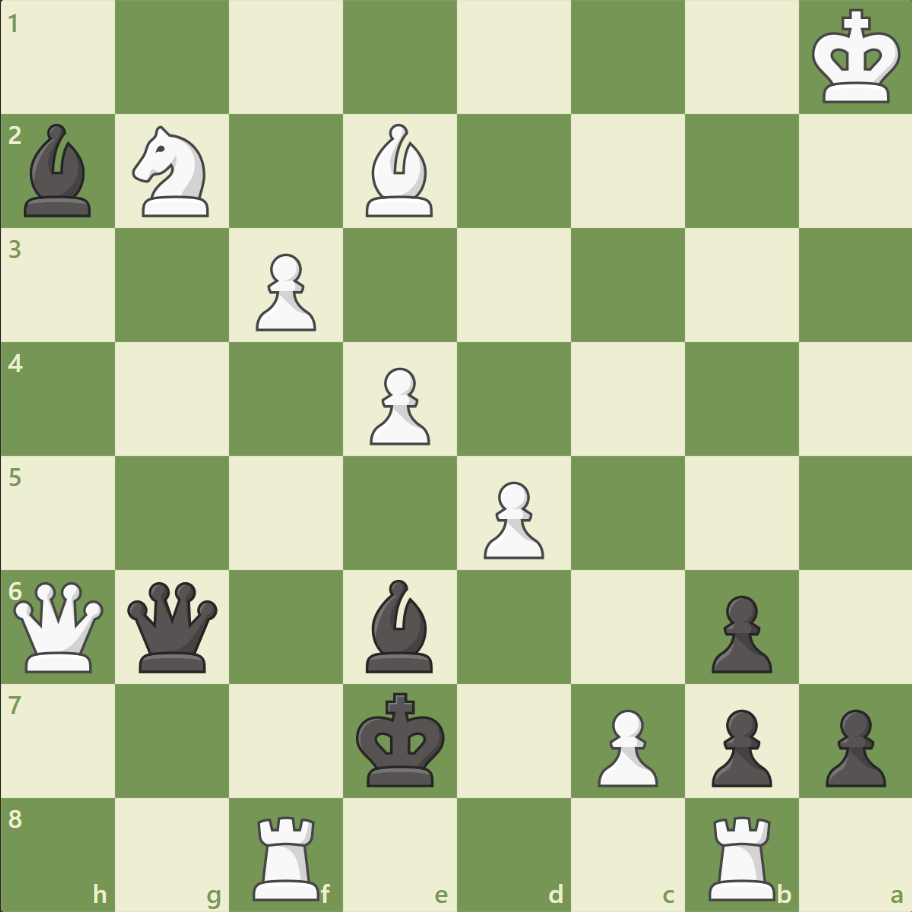B: (358, 120, 442, 222)
K: (806, 4, 906, 112)
N: (124, 121, 222, 223)
P: (474, 473, 549, 564), (247, 246, 322, 337), (588, 700, 662, 791), (361, 359, 435, 450)
Q: (10, 576, 109, 676)
R: (700, 806, 783, 904), (246, 806, 329, 904)
b: (358, 574, 442, 676), (17, 120, 101, 222)
k: (351, 685, 451, 793)
p: (701, 700, 776, 791), (701, 586, 776, 677), (815, 700, 889, 791)
q: (124, 576, 223, 676)
